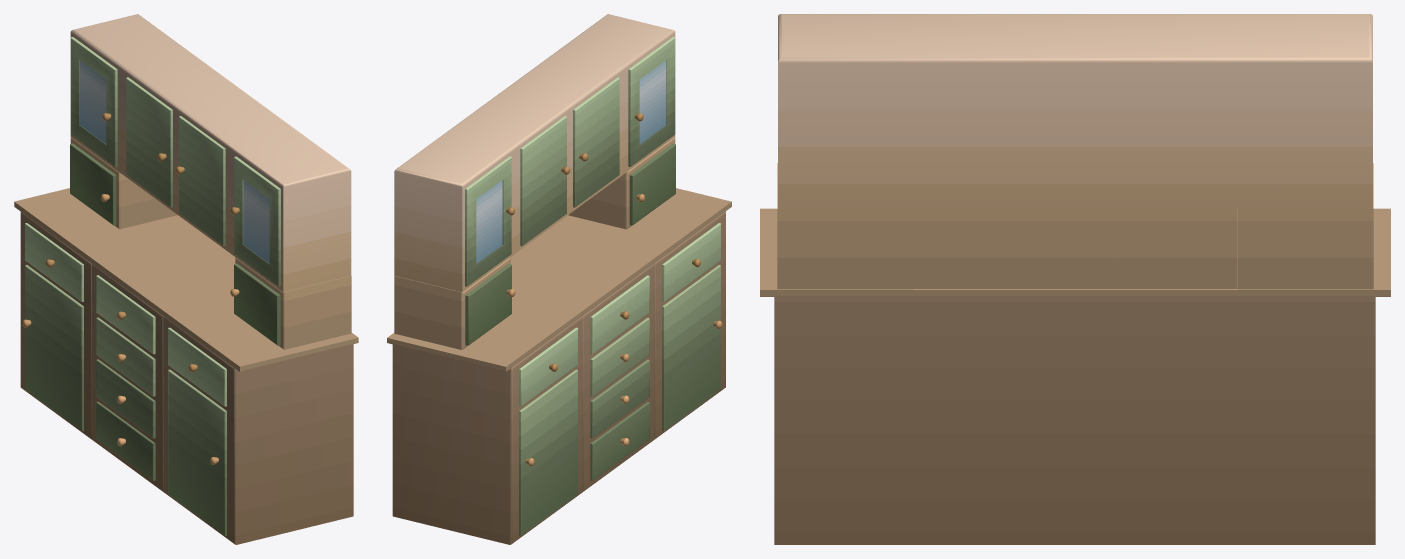
The model's file is kitchen_cabinet2.fbx.
The picture shows the model from 3 angles, left to right: view 1: azimuth 30°, elevation 25°; view 2: azimuth 150°, elevation 25°; view 3: azimuth 270°, elevation 25°; orthographic projection. The views are drawn at different scales.
Parts seen in each view (by area): view 1: kitchen_cabinet2; view 2: kitchen_cabinet2; view 3: kitchen_cabinet2.
Boxes of the visible parts, left/top/right/bottom form: kitchen_cabinet2: left=14, top=14, right=358, bottom=544; kitchen_cabinet2: left=387, top=14, right=731, bottom=544; kitchen_cabinet2: left=760, top=14, right=1390, bottom=544.
Size of the model in its own units: 110 by 285 by 336.
